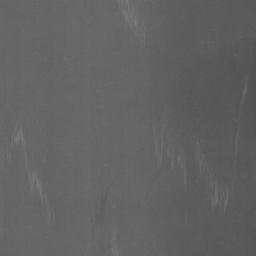Silk spot: (187, 152, 195, 174), (100, 192, 107, 211)
